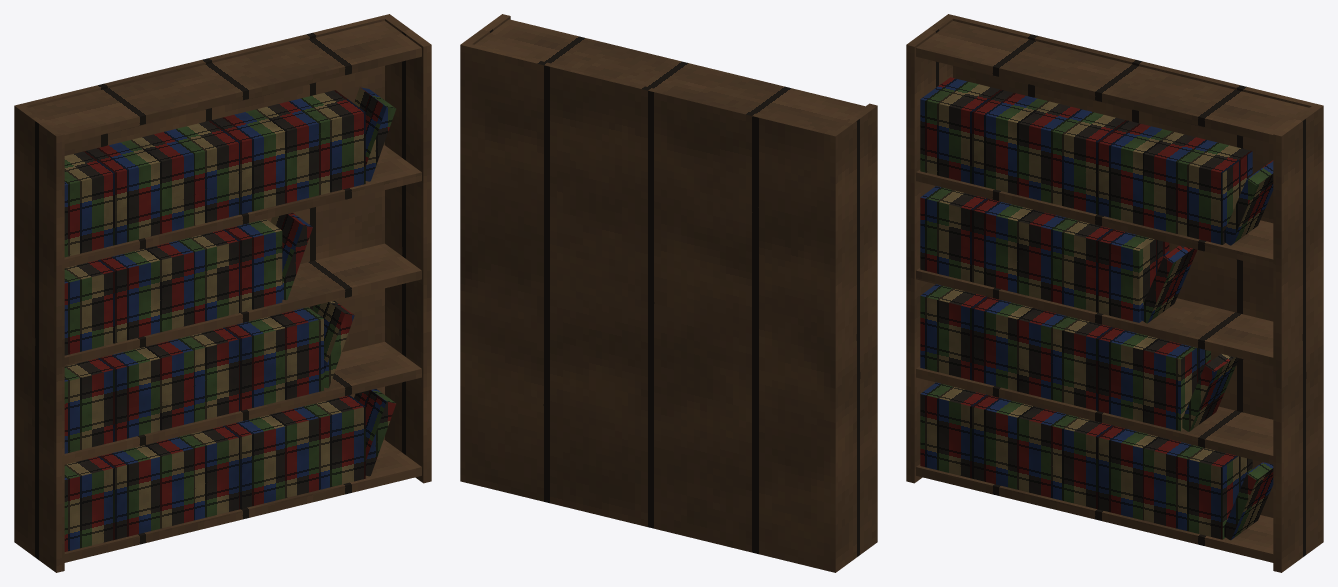
File: int_bookshelf.glb
The picture shows the model from 3 angles, left to right: view 1: azimuth 30°, elevation 25°; view 2: azimuth 150°, elevation 25°; view 3: azimuth 330°, elevation 25°; orthographic projection.
Parts seen in each view (by area): view 1: detail, shelf-col; view 2: shelf-col; view 3: detail, shelf-col.
Part boxes in pixels (bbox=[...]): detail: bbox=[64, 87, 396, 551]; shelf-col: bbox=[14, 14, 431, 572]; shelf-col: bbox=[460, 14, 877, 572]; detail: bbox=[920, 77, 1273, 540]; shelf-col: bbox=[906, 14, 1323, 572].
Size of the model in its own units: 1.8 by 2 by 0.35.
Materials: 2 (2 with a texture image).
